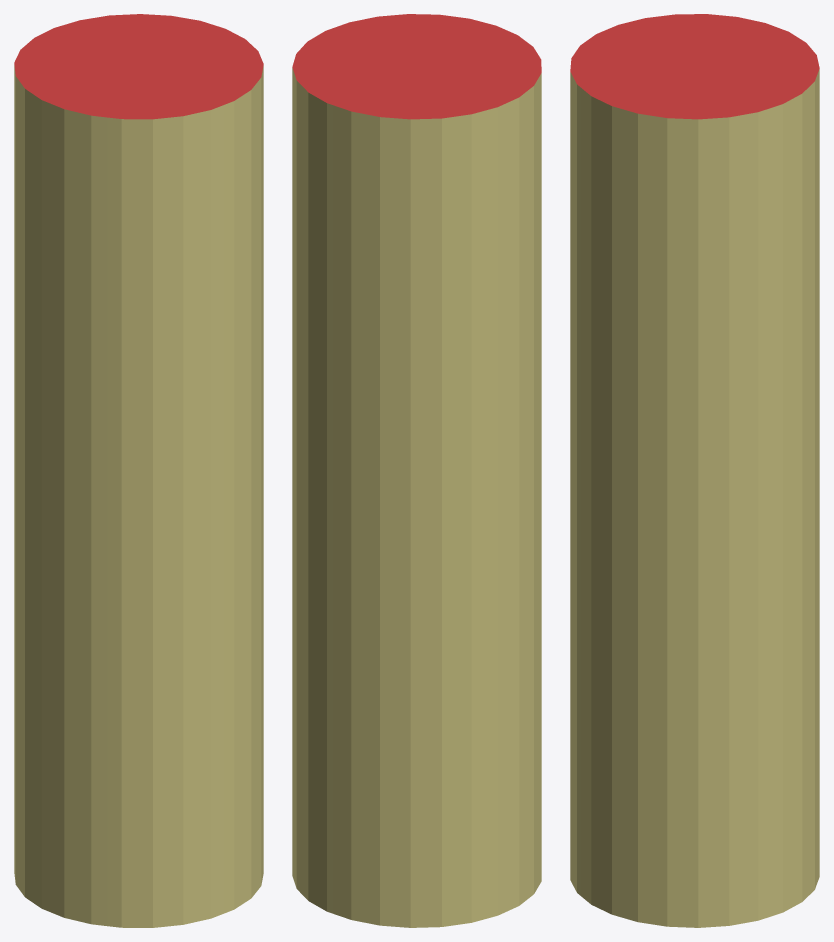
The picture shows the model from 3 angles, left to right: view 1: azimuth 30°, elevation 25°; view 2: azimuth 150°, elevation 25°; view 3: azimuth 270°, elevation 25°; orthographic projection.
Size of the model in its own units: 2.14 by 2.14 by 7.66.
